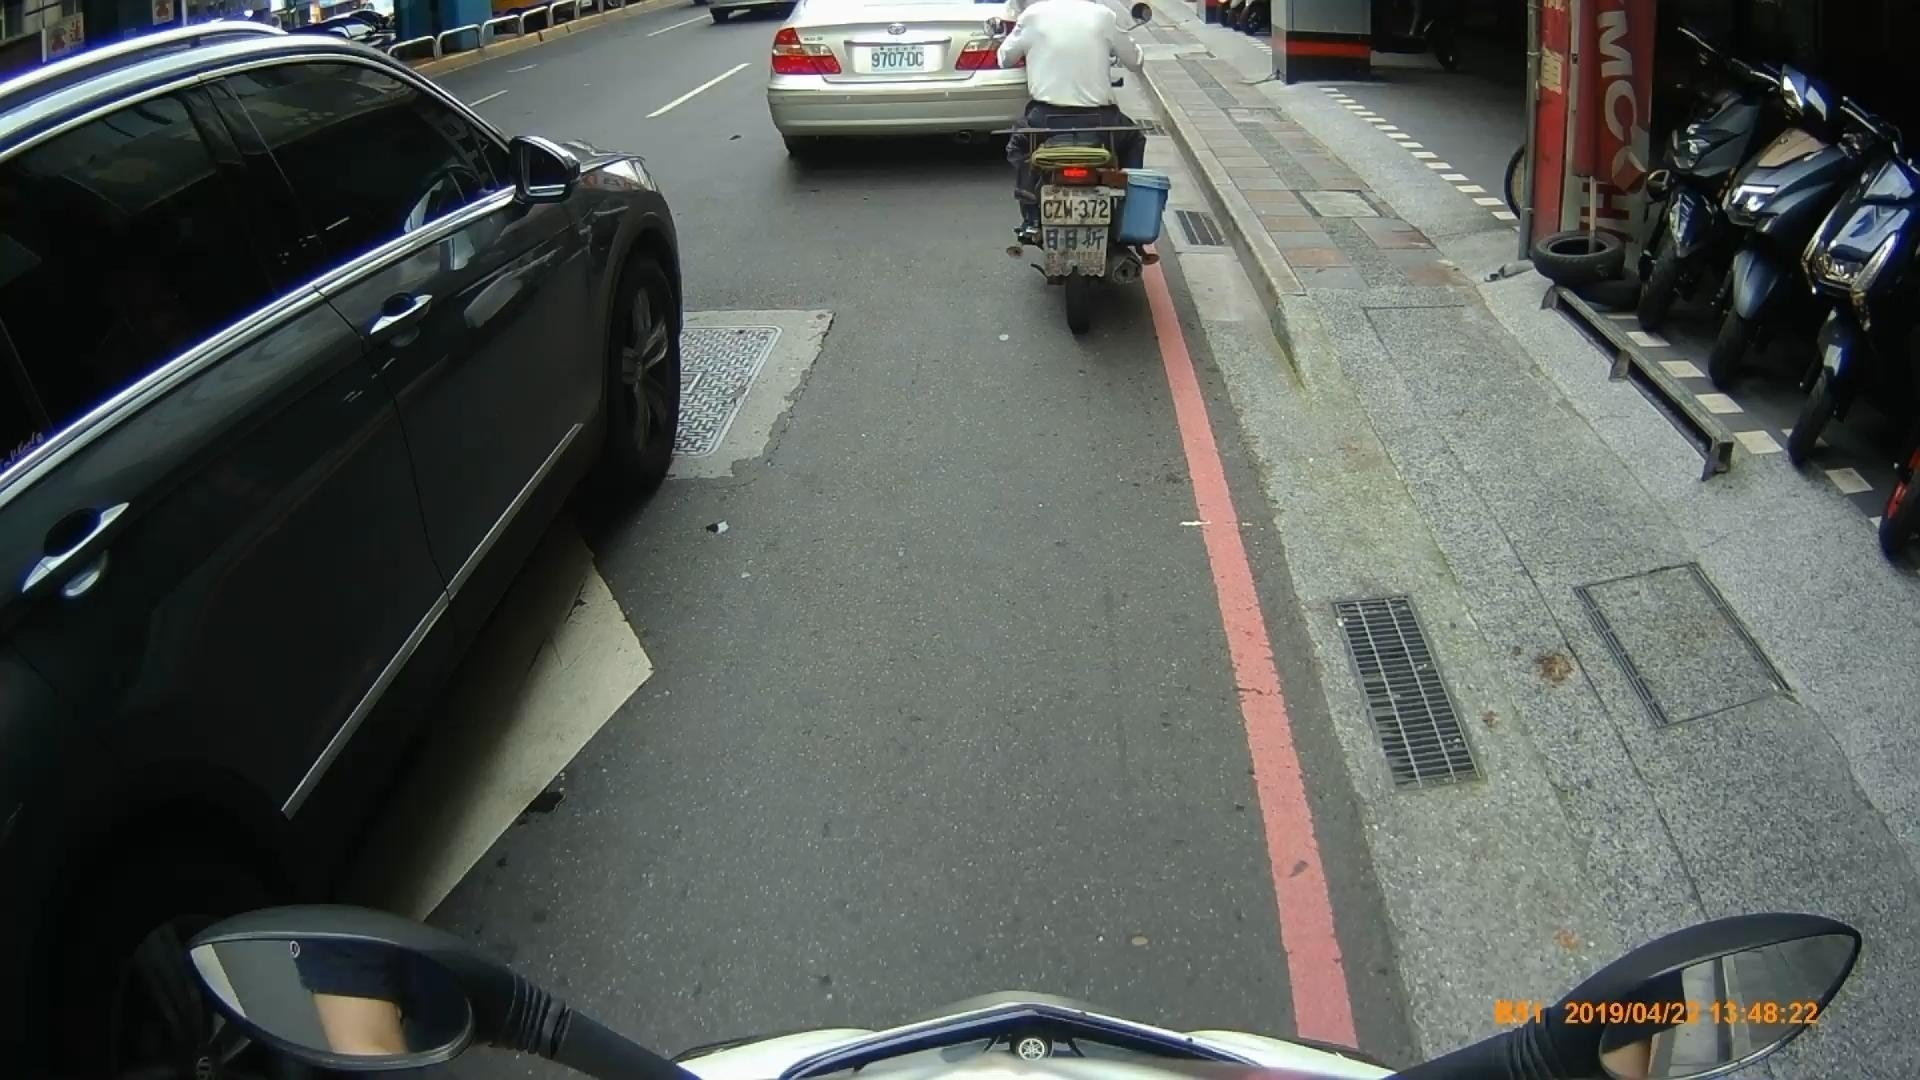License_plate: (1042, 186, 1112, 221), (868, 46, 925, 73)
